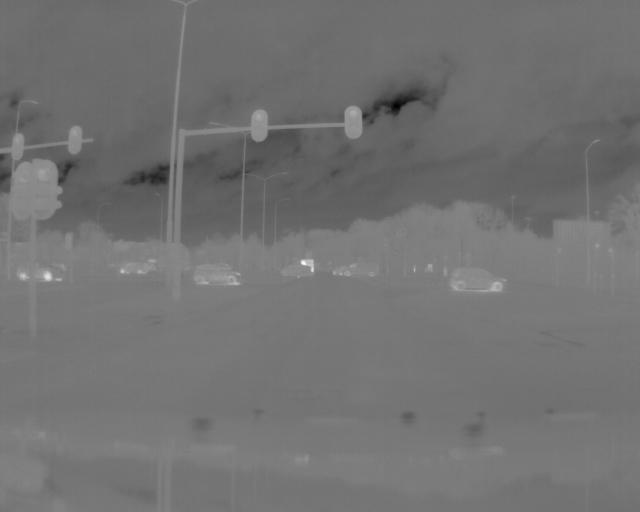car: (448, 261, 515, 299), (191, 262, 246, 284), (342, 258, 384, 280), (119, 259, 154, 276), (39, 262, 72, 280), (281, 261, 310, 278)
